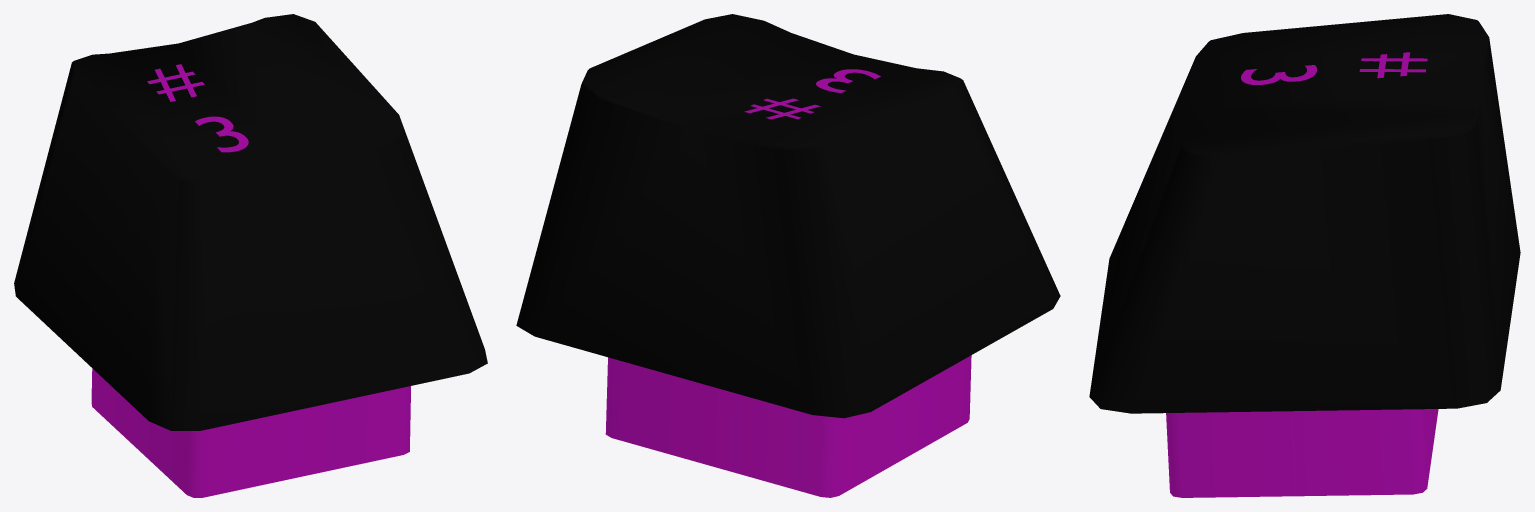
The model's file is key_3_1-DeJQHJcc.glb.
3 views of the same model, side by side, from view 1: azimuth 30°, elevation 25°; view 2: azimuth 150°, elevation 25°; view 3: azimuth 270°, elevation 25° (orthographic). The views are drawn at different scales.
Visible parts, largest first — view 1: StudyShelf_262; view 2: StudyShelf_262; view 3: StudyShelf_262.
Part boxes in pixels (bbox=[...]): StudyShelf_262: bbox=[14, 14, 487, 497]; StudyShelf_262: bbox=[516, 14, 1060, 497]; StudyShelf_262: bbox=[1089, 14, 1520, 497].
Bounding box in the file's own units: 4.35 × 4.14 × 4.35.
2 materials, 1 textured.
